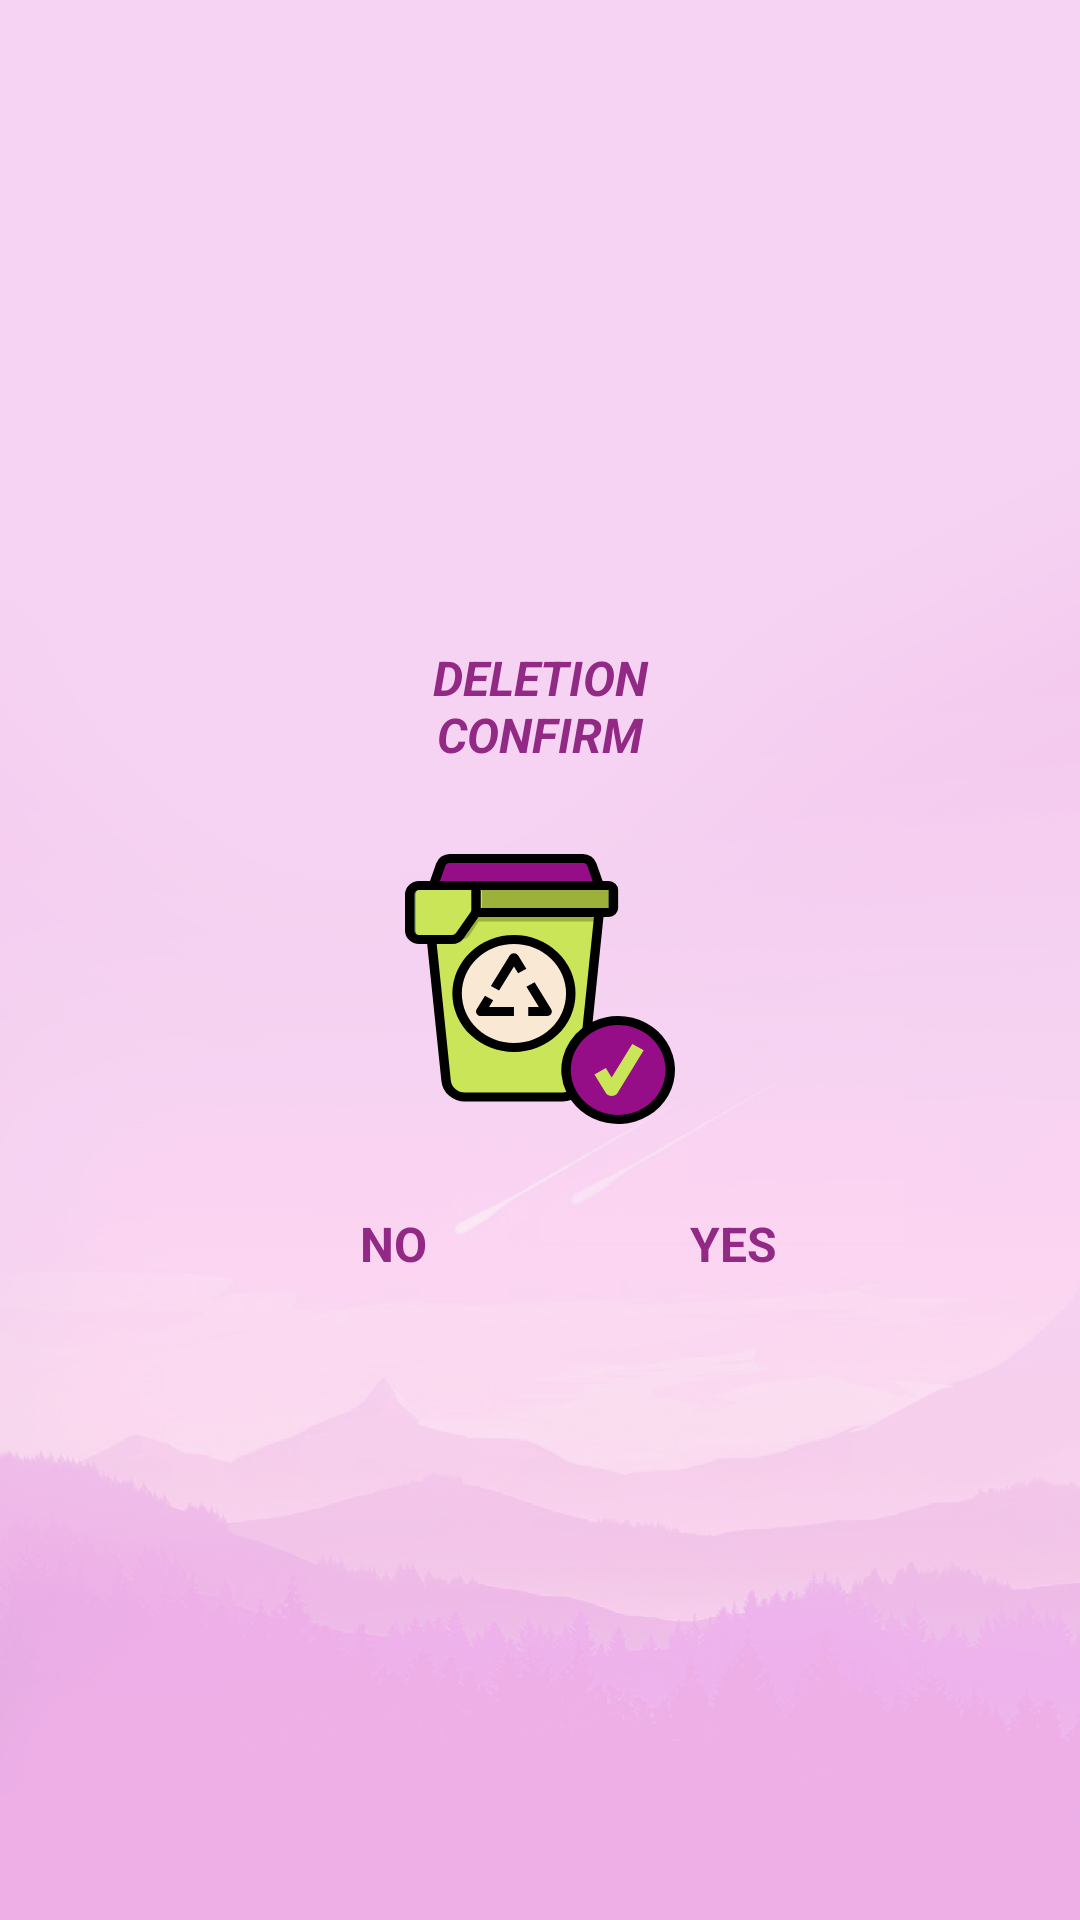

Screen size 1080×1920. Icon name, then its box in pixels as (x1, y1, x2, y2):
trash: (405, 854, 675, 1124)
